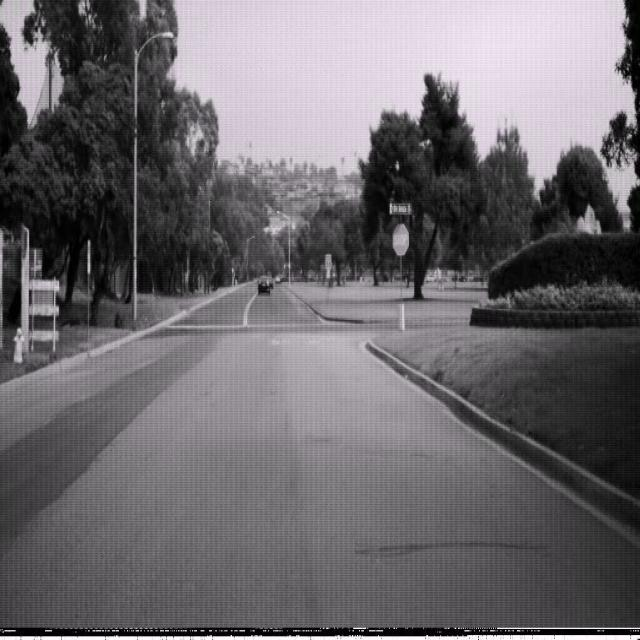stop: (392, 222, 409, 256)
